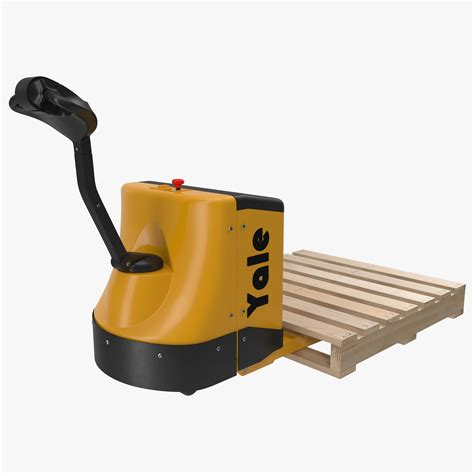Pallet Jack: (8, 76, 465, 397)
